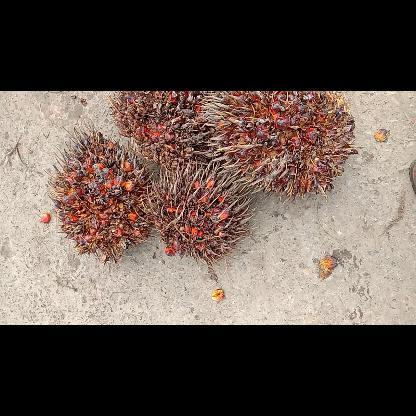Terlalu masak: (194, 91, 360, 204), (44, 119, 156, 266), (136, 154, 262, 268), (106, 90, 233, 178)
